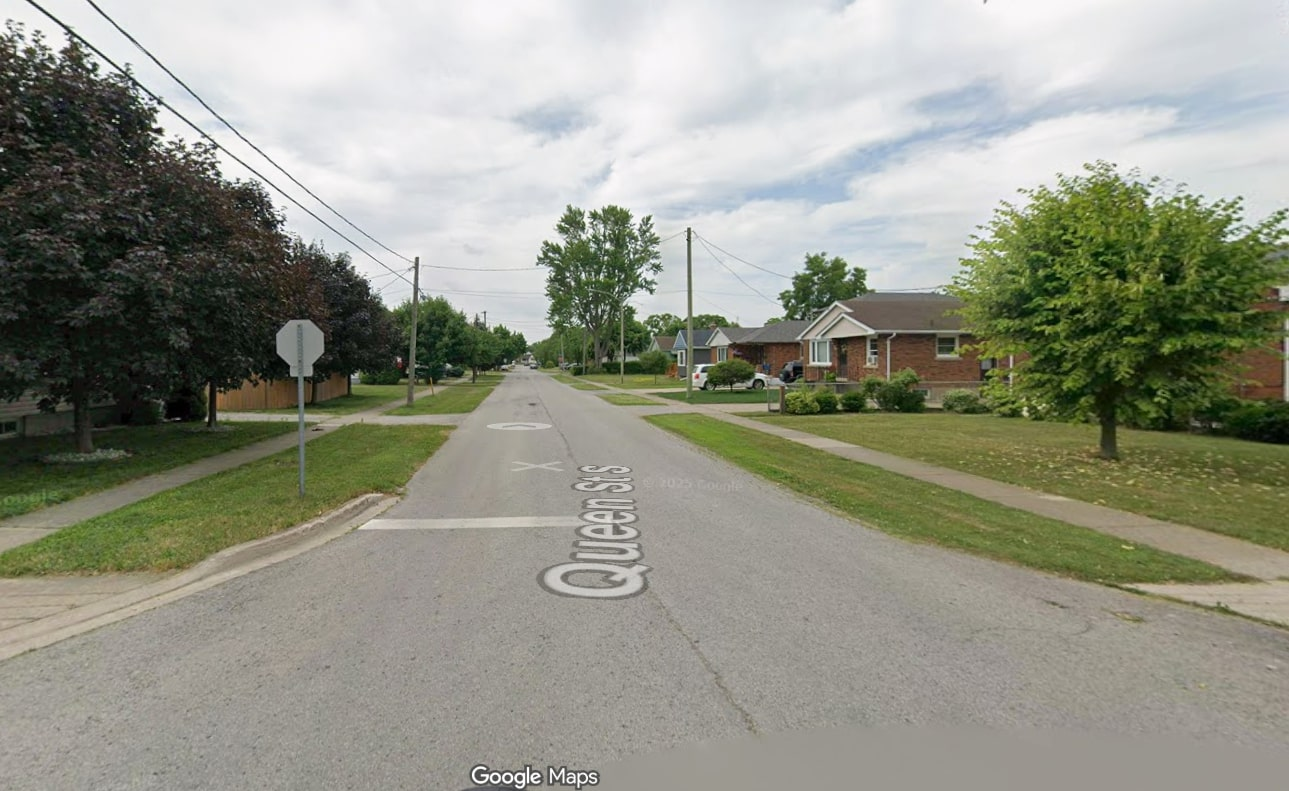cracks: (652, 599, 764, 742), (1016, 581, 1150, 640), (518, 394, 582, 470)
